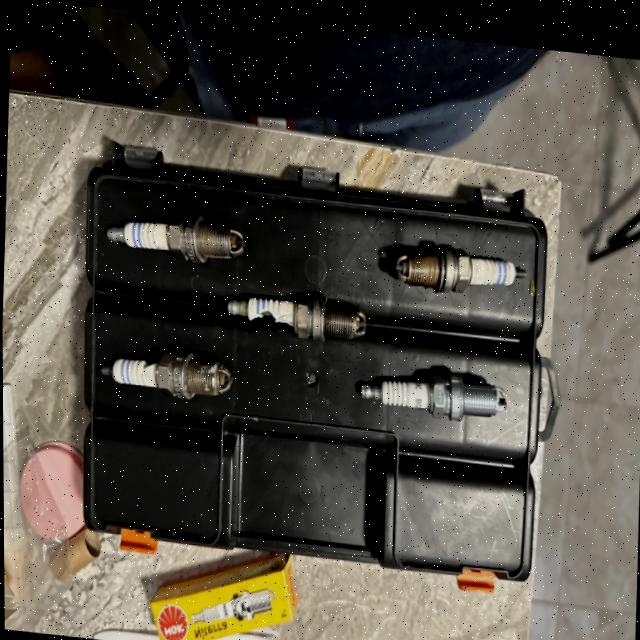damaged_spark-plug: (219, 277, 373, 343), (100, 341, 233, 397)
spark-plug: (383, 225, 528, 296), (358, 358, 509, 420), (102, 202, 248, 264)
